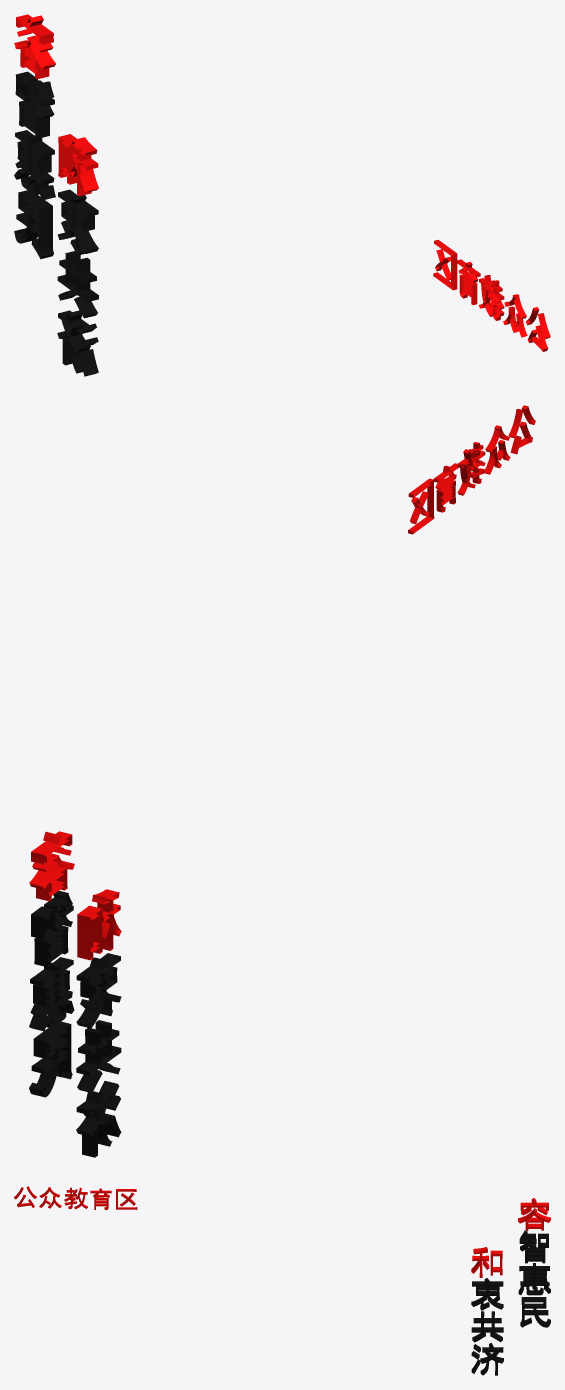
3 views of the same model, one above another, from view 1: azimuth 30°, elevation 25°; view 2: azimuth 150°, elevation 25°; view 3: azimuth 270°, elevation 25° (orthographic). The views are drawn at different scales.
Parts seen in each view (by area): view 1: Text003, Text004; view 2: Text003, Text004; view 3: Text003, Text004.
Boxes of the visible parts, bbox=[...] form: Text003: bbox=[14, 71, 98, 376]; Text004: bbox=[14, 14, 550, 351]; Text003: bbox=[29, 890, 121, 1157]; Text004: bbox=[29, 405, 535, 960]; Text003: bbox=[471, 1230, 550, 1375]; Text004: bbox=[14, 1186, 550, 1277].
Bounding box in the file's own units: 0.0104 × 0.0816 × 0.2018.
